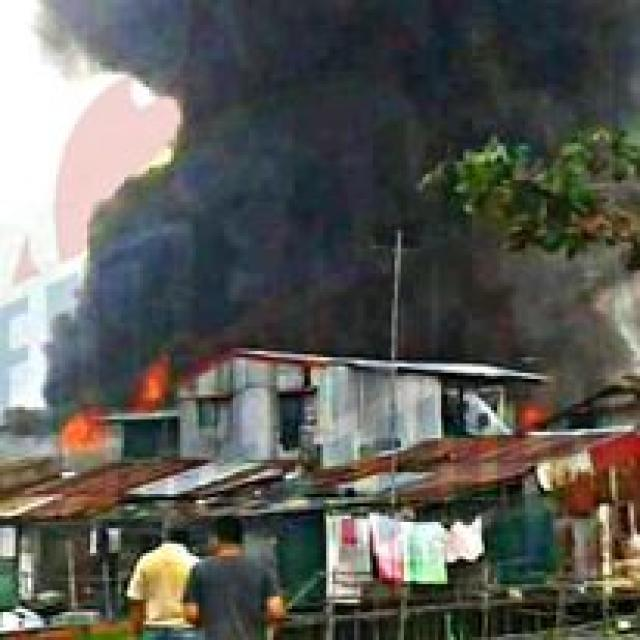Fire: (134, 366, 174, 411), (55, 414, 105, 446), (518, 400, 560, 428)
Smoke: (46, 0, 640, 407)
